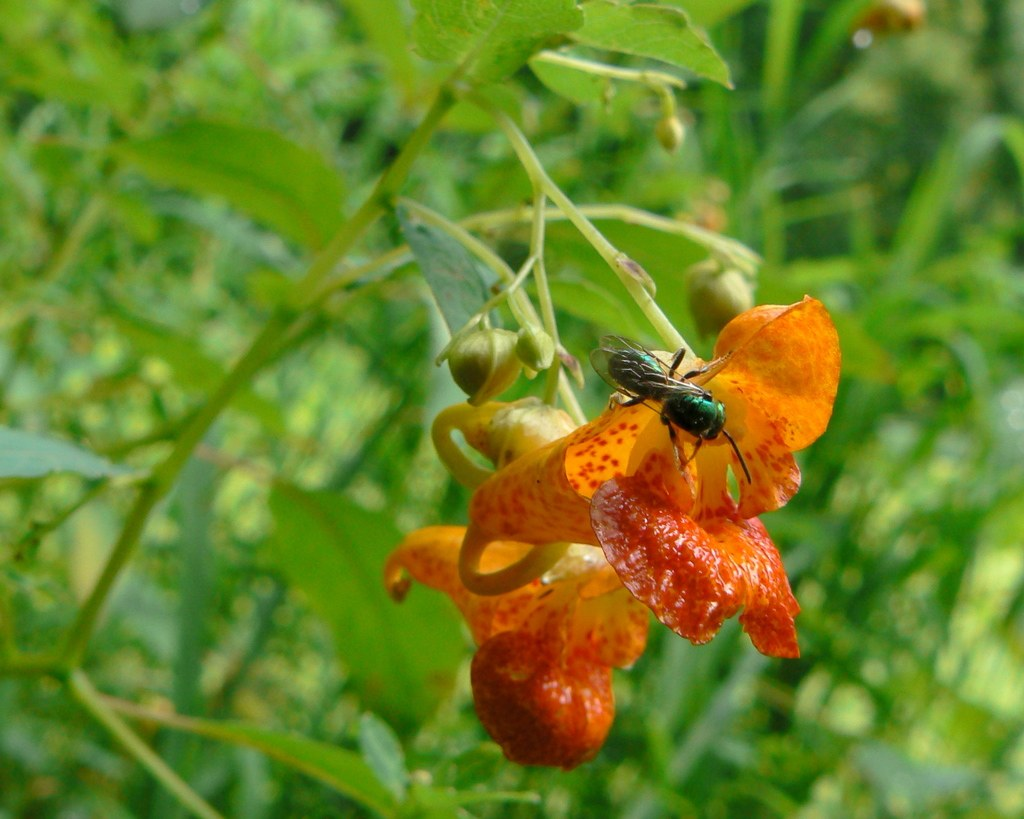bee: (587, 333, 749, 482)
insect: (415, 290, 824, 654)
